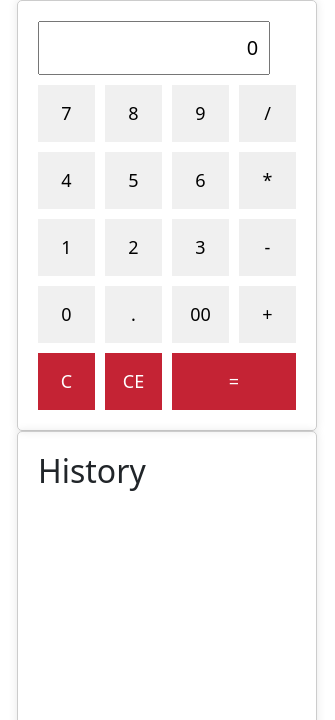
Calculator Component › clears the result correctly
Click the button "8".
click(134, 114)  # box [105,85,162,142]
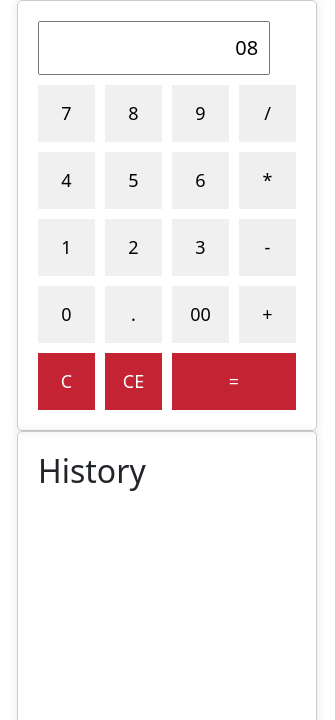
Click the button with id "clear".
click(66, 382)  # box [38,353,95,410]
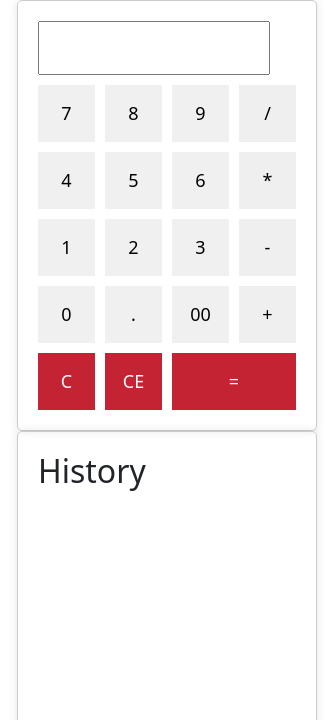
Expected: the field with class "result" is empty, [38,21,270,75]
